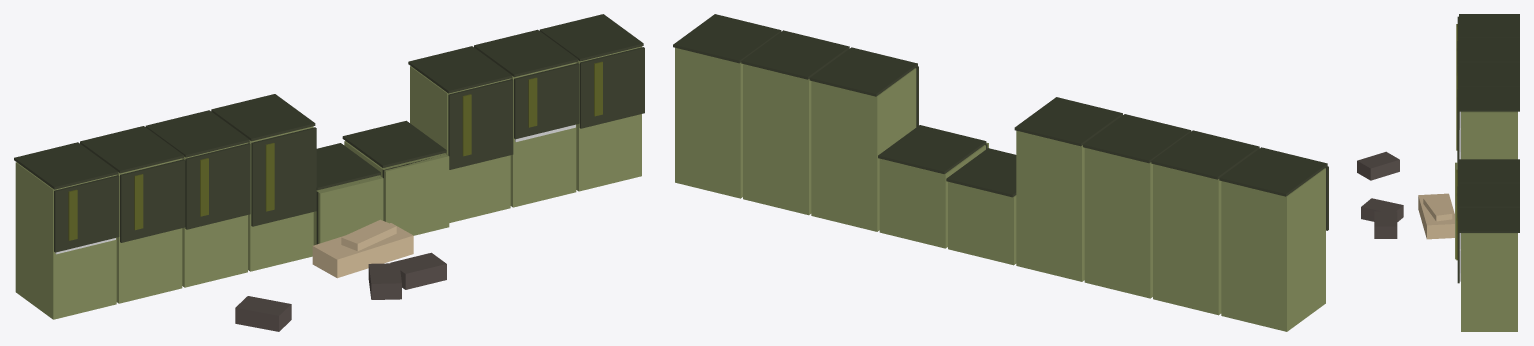
File: SM_MuroHesco_v4_Red_e1_Danado_LOD1.fbx
3 renders of one model, left to right at view 1: azimuth 30°, elevation 25°; view 2: azimuth 150°, elevation 25°; view 3: azimuth 270°, elevation 25°, orthographic. The views are drawn at different scales.
Visible parts, largest first — view 1: SM_bloques.muro_hesco_estados_v17_LOD1; view 2: SM_bloques.muro_hesco_estados_v17_LOD1; view 3: SM_bloques.muro_hesco_estados_v17_LOD1.
Boxes of the visible parts, left/top/right/bottom form: SM_bloques.muro_hesco_estados_v17_LOD1: left=14, top=14, right=644, bottom=331; SM_bloques.muro_hesco_estados_v17_LOD1: left=673, top=14, right=1328, bottom=331; SM_bloques.muro_hesco_estados_v17_LOD1: left=1357, top=14, right=1519, bottom=331.
Size of the model in its own units: 9.97 by 2.16 by 3.16.
